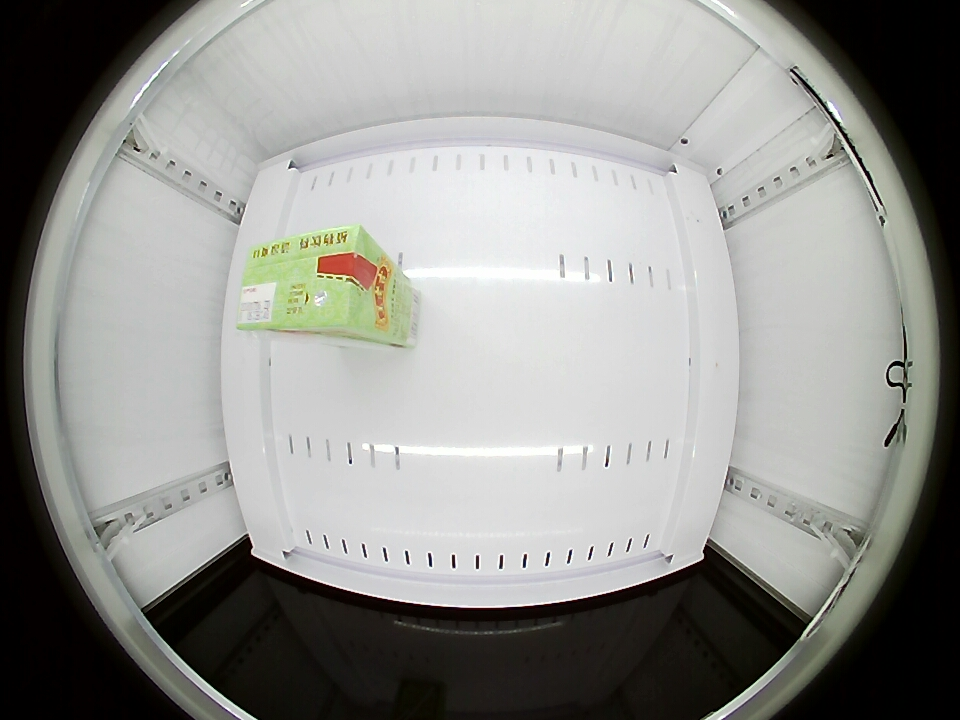wanglaoji: (237, 225, 385, 336)
